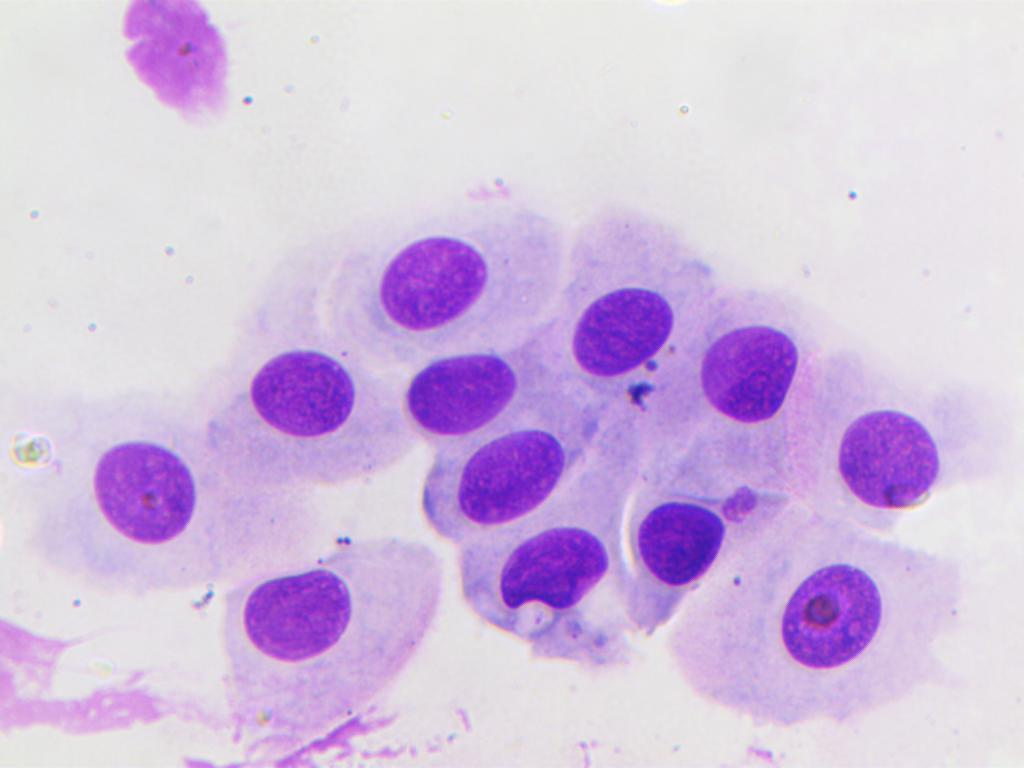artifact: (117, 1, 239, 129), (8, 417, 63, 473)
epithelial: (339, 187, 564, 352), (226, 529, 422, 717), (741, 526, 942, 690), (207, 306, 398, 475), (47, 391, 219, 575), (835, 365, 1020, 522), (693, 291, 822, 459), (627, 474, 776, 609), (542, 252, 694, 384), (476, 520, 626, 630), (444, 426, 572, 530), (390, 333, 520, 434)
